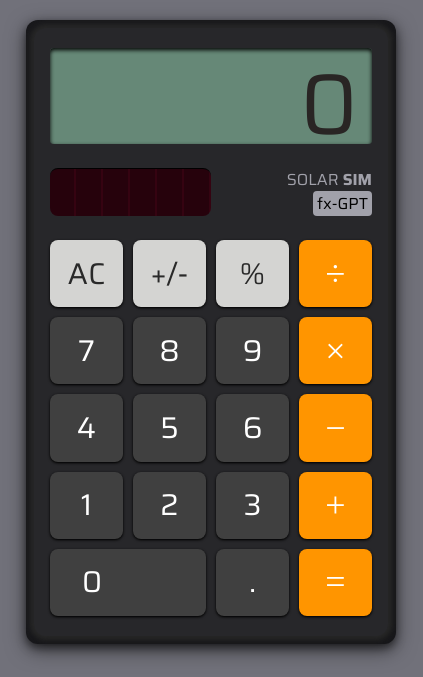
Test: performs arithmetic: 1+1= 🡢 2
Click the button "1".
click(86, 505)  # box [50,472,123,539]
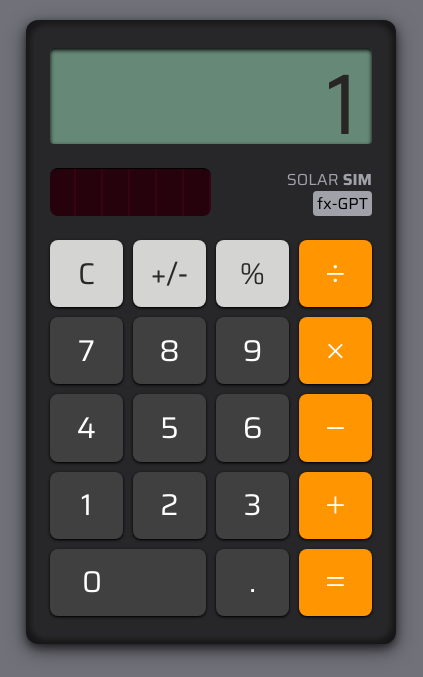
Click the button "+".
click(336, 505)  # box [299,472,372,539]
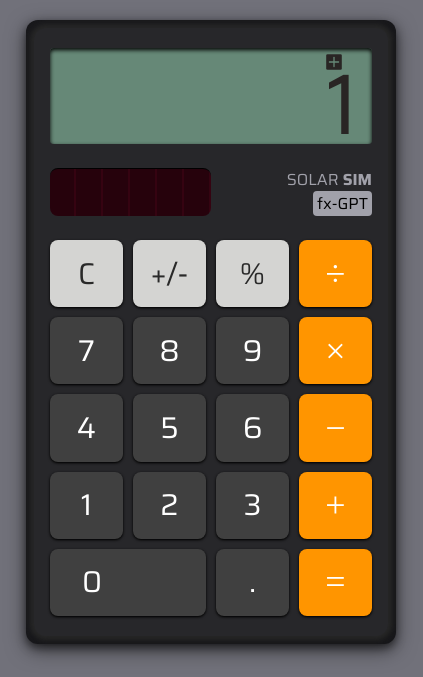
Click the button "1".
click(86, 505)  # box [50,472,123,539]
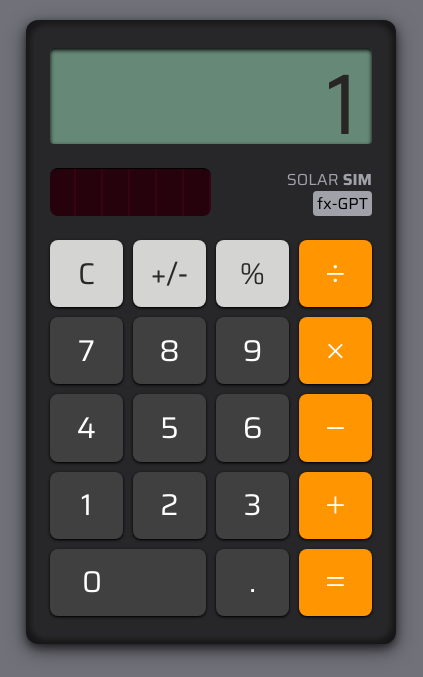
Click the button "=".
click(336, 582)  # box [299,549,372,616]
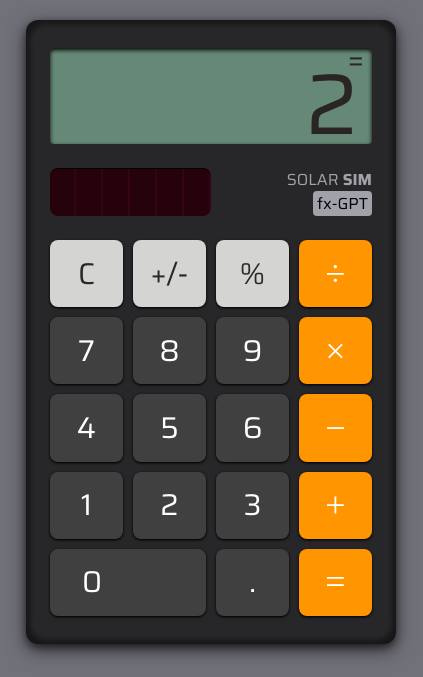
Result: the text with test id "output" reads "2" at [306,48,358,144]
